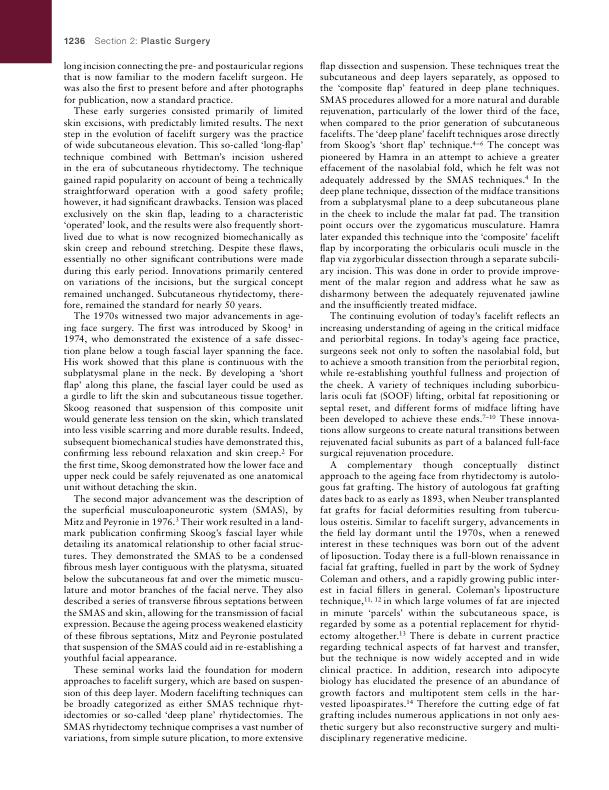header: (94, 36, 211, 47)
text: (318, 59, 561, 745), (63, 60, 305, 745)
